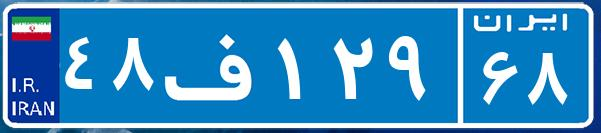1: (273, 28, 330, 110)
2: (330, 28, 385, 110)
4: (57, 26, 110, 107)
6: (475, 38, 525, 113)
8: (110, 28, 158, 105), (525, 38, 570, 115)
9: (385, 28, 445, 110)
ف: (158, 15, 273, 115)
